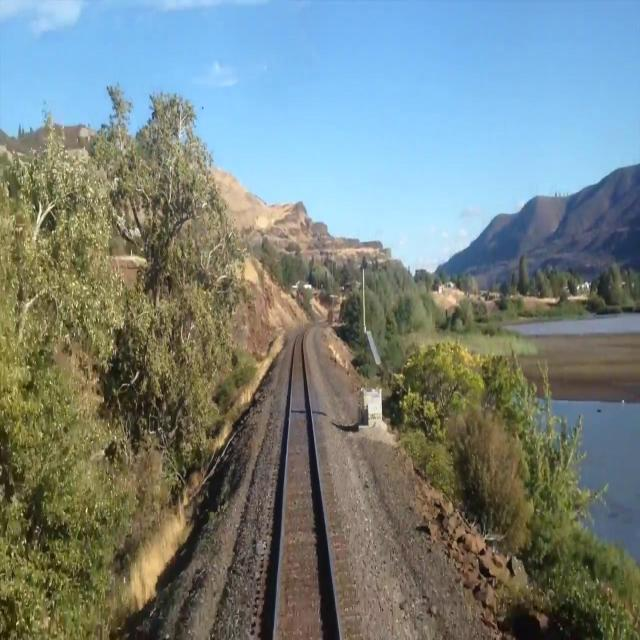rail-track: (275, 324, 338, 639)
